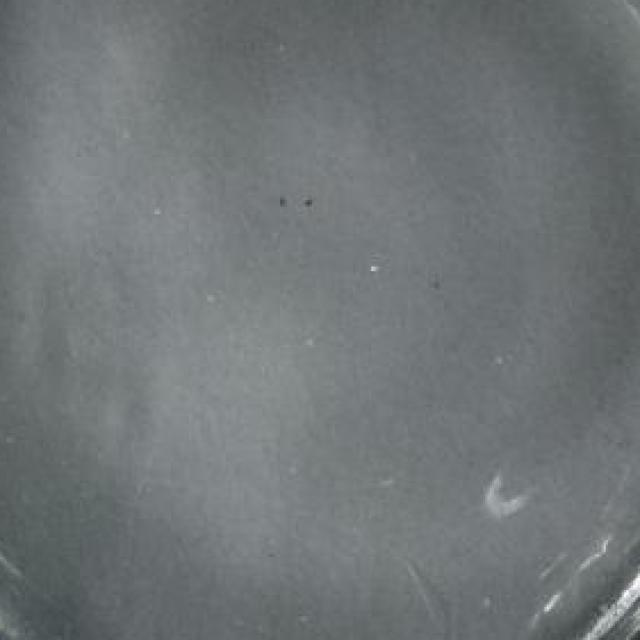Microplastic: (474, 447, 544, 533)
